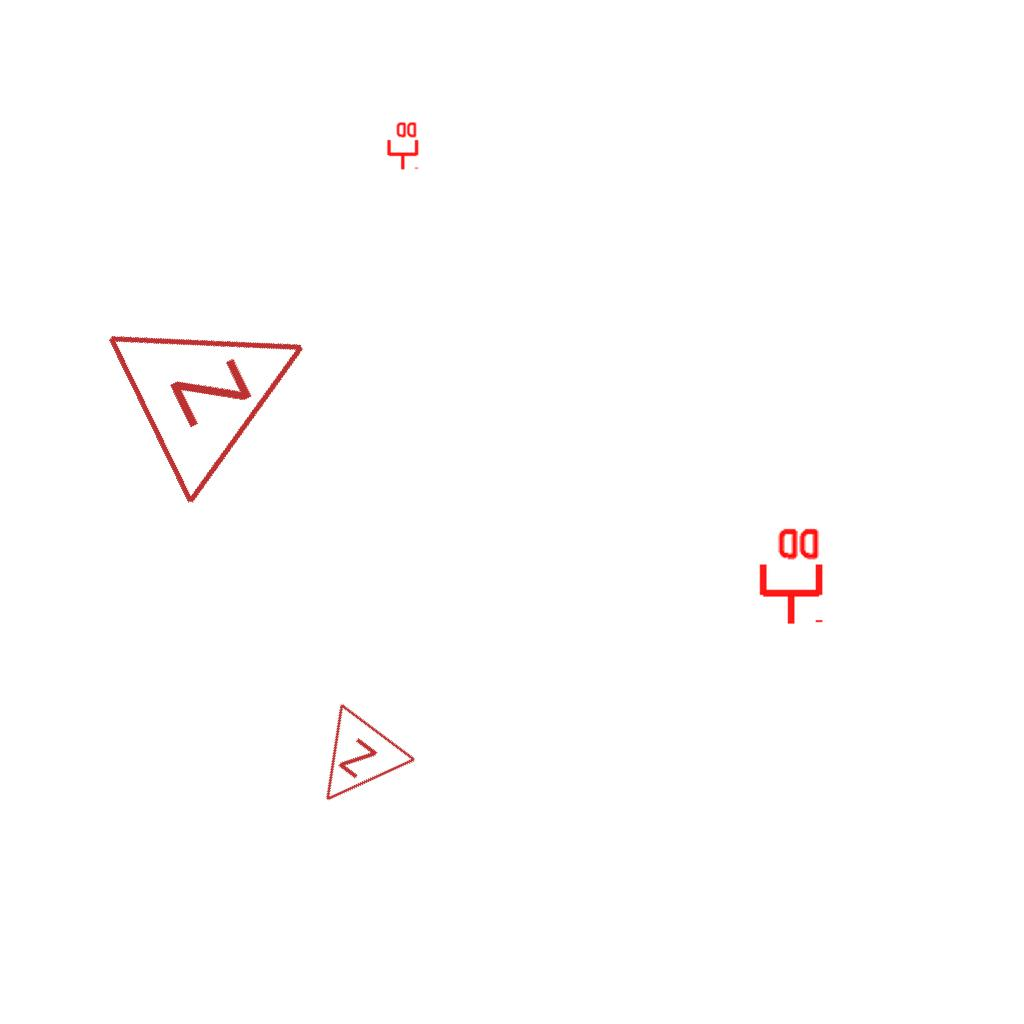Datenanschluss_zweifach: (755, 524, 824, 627), (385, 120, 419, 171)
Zimmersignalleuchte: (91, 250, 357, 514), (284, 696, 424, 836)
